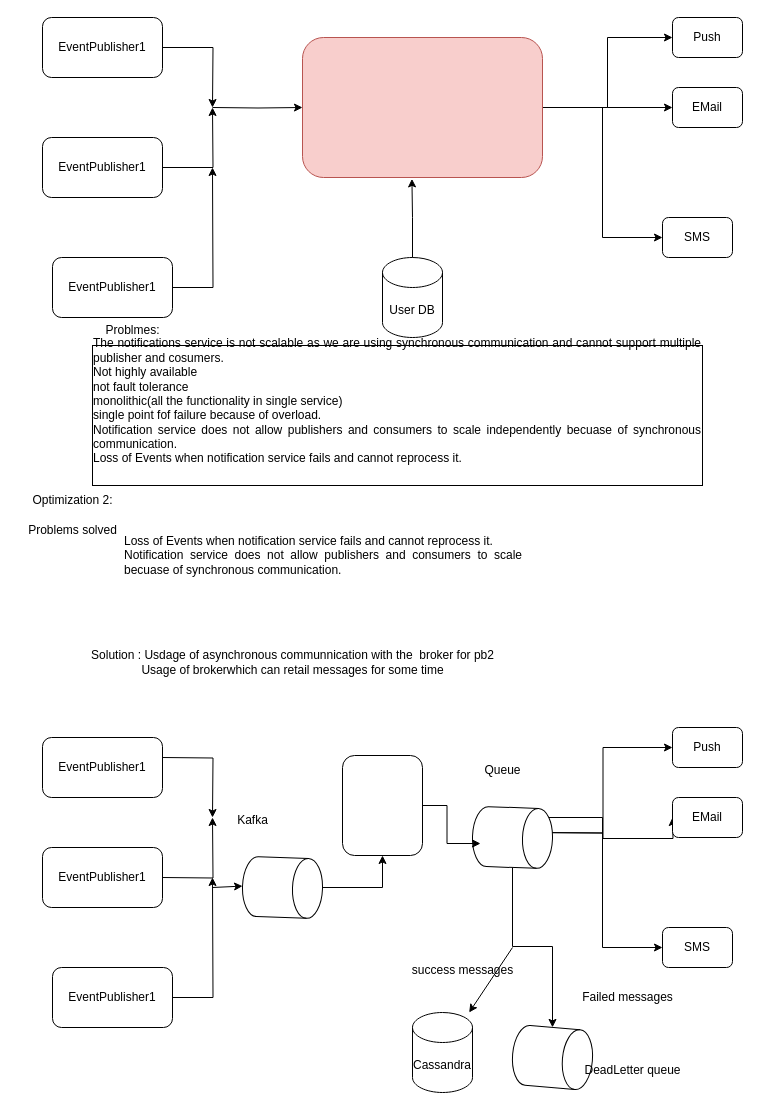
This 760x1110 diagram has some shape labels left out. Here are the shapes that lost their labels. From the top down, the centre of each, then its label:
At [422,107]: "Norification Service".
At [382,805]: "Notification service".
